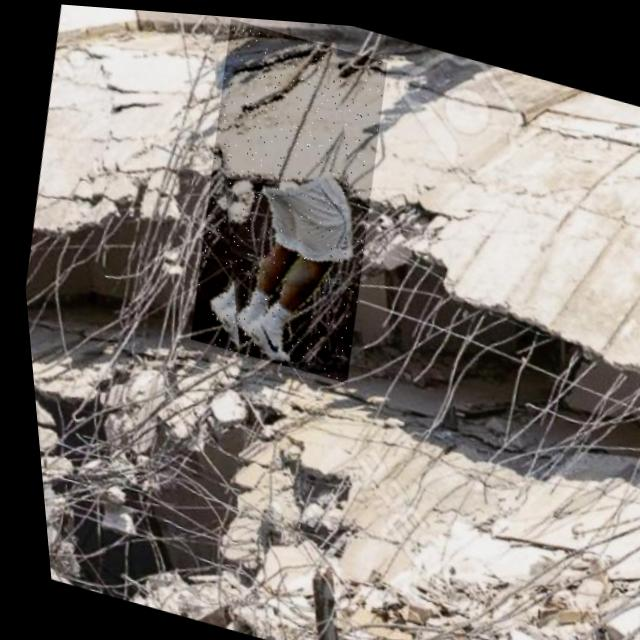Person in Rubble: (161, 11, 409, 382)
